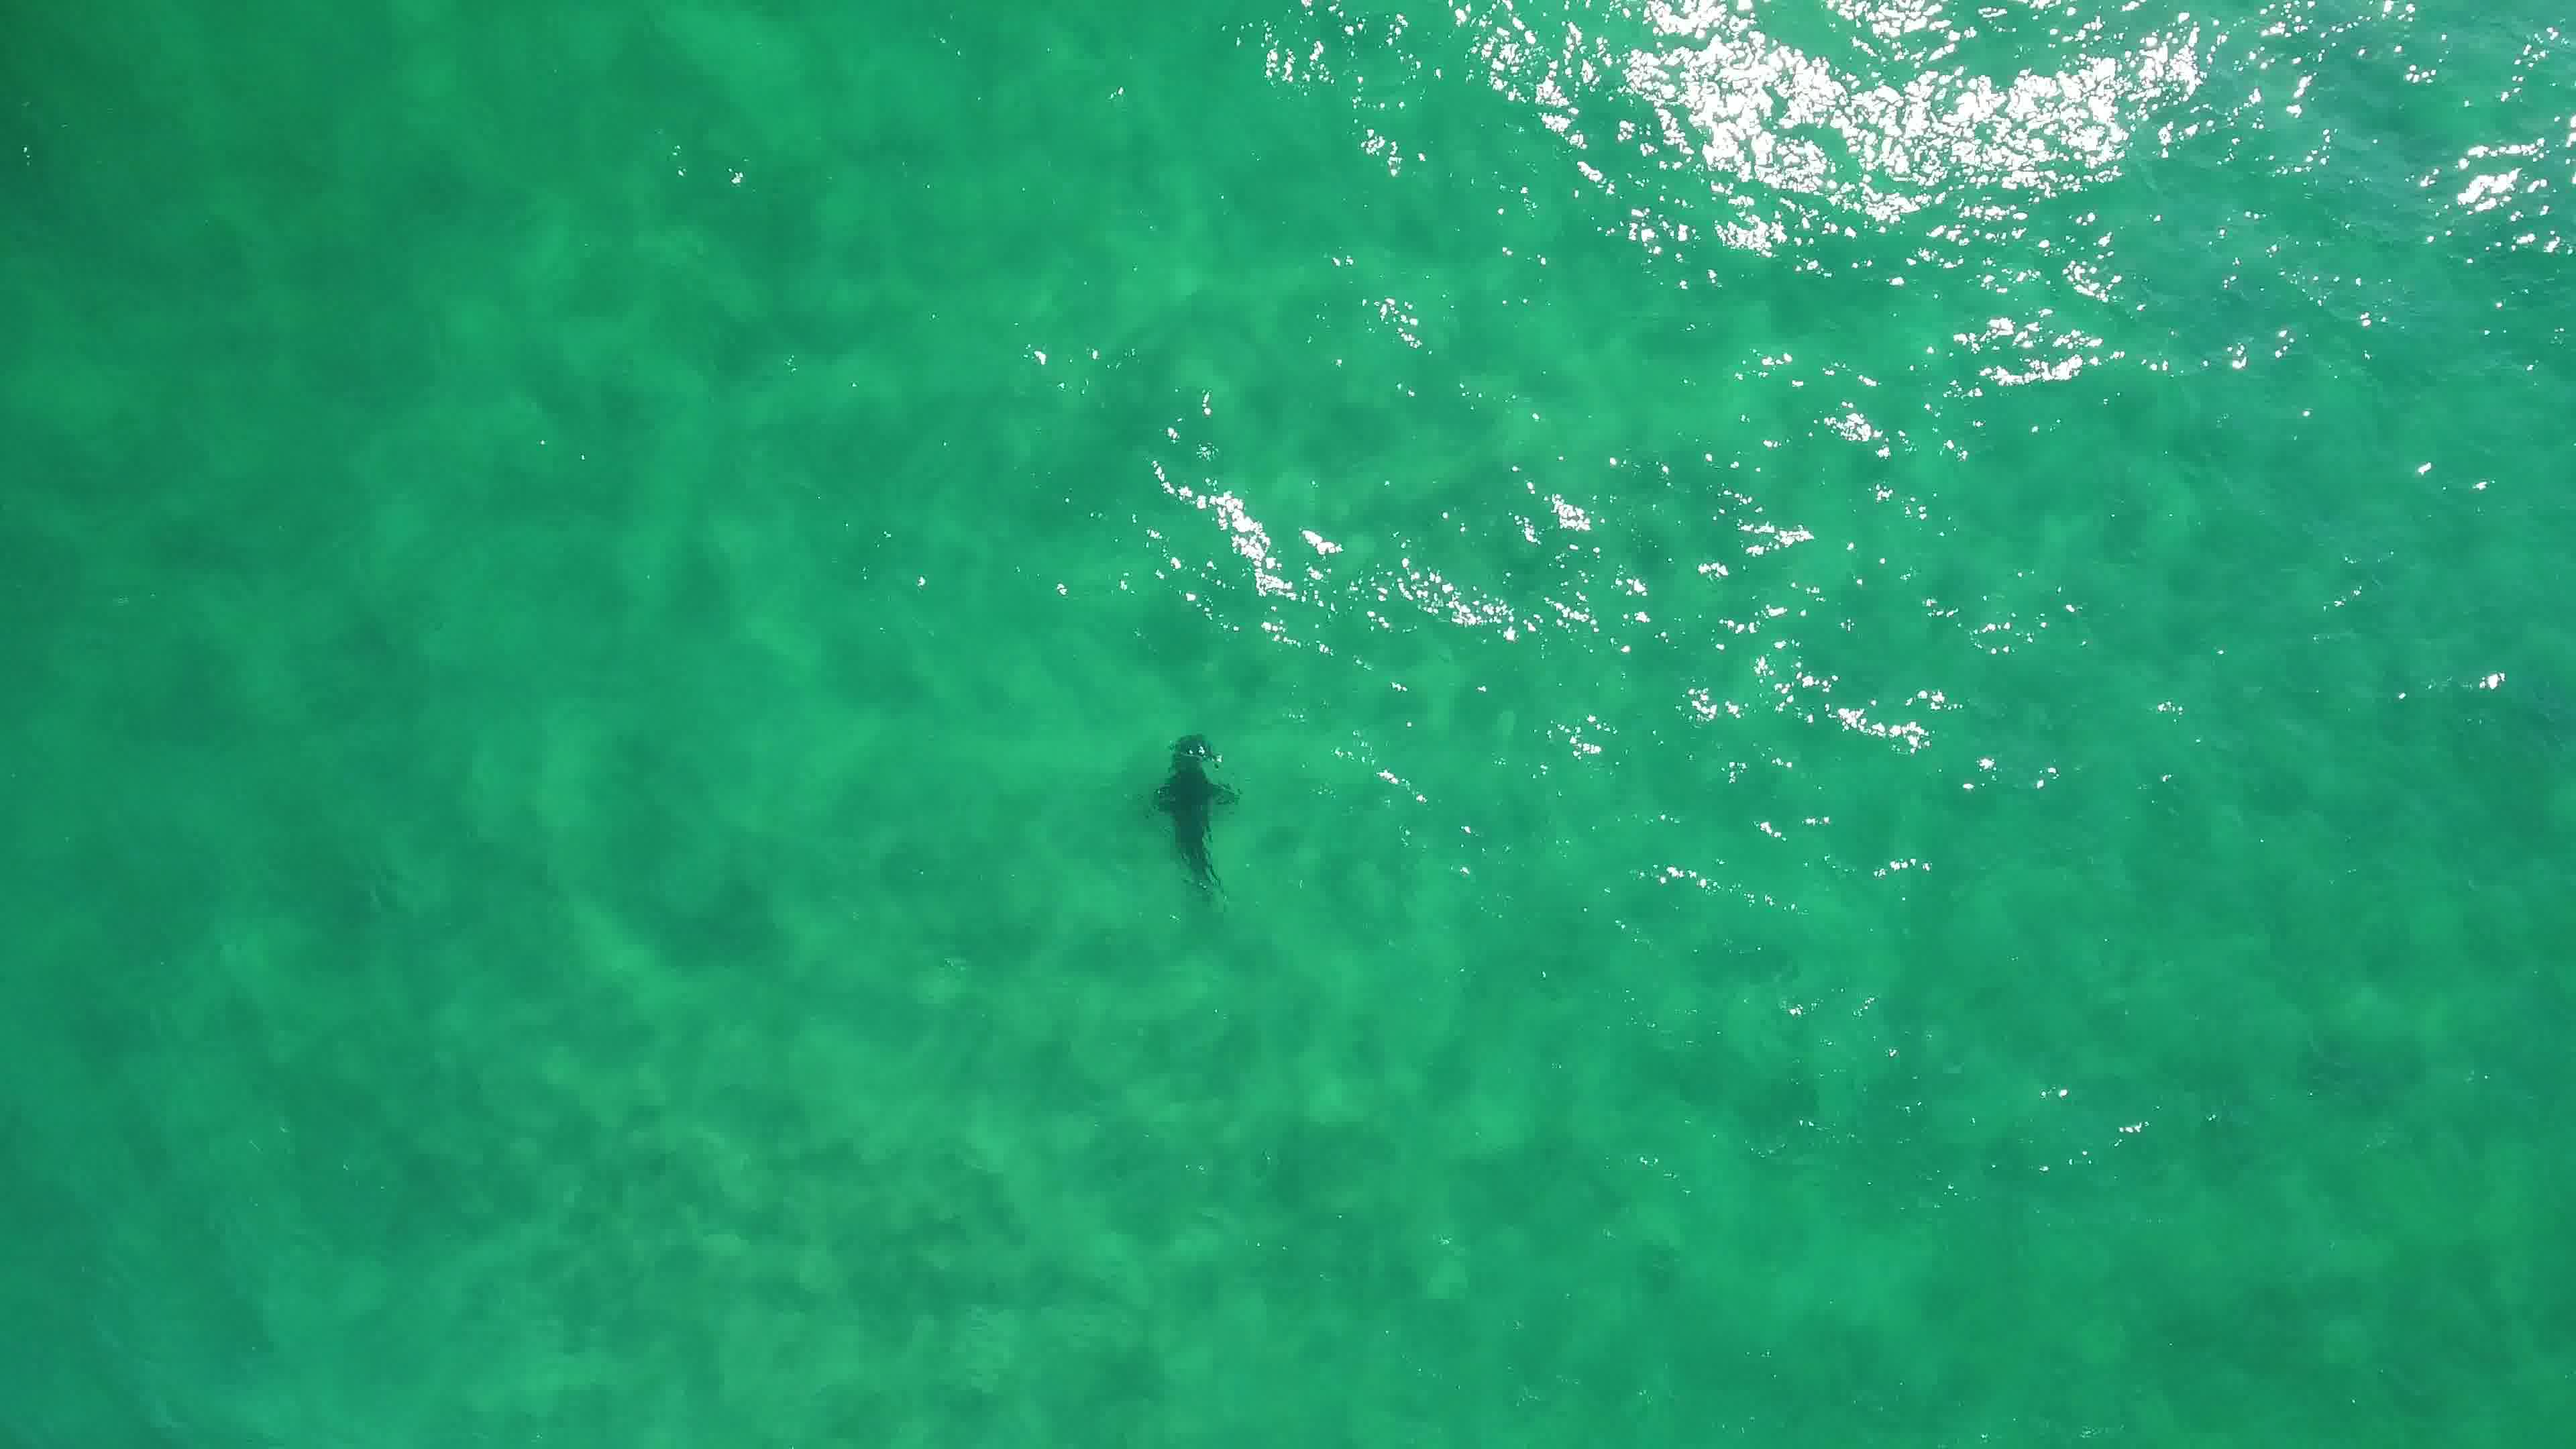shark: (1143, 731, 1247, 908)
